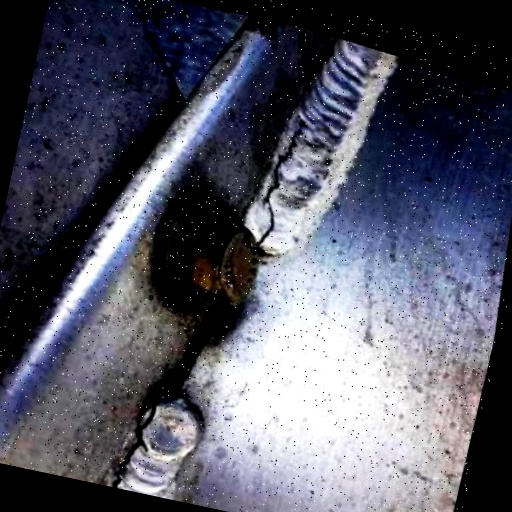crack: (233, 92, 331, 264), (94, 375, 173, 495)
